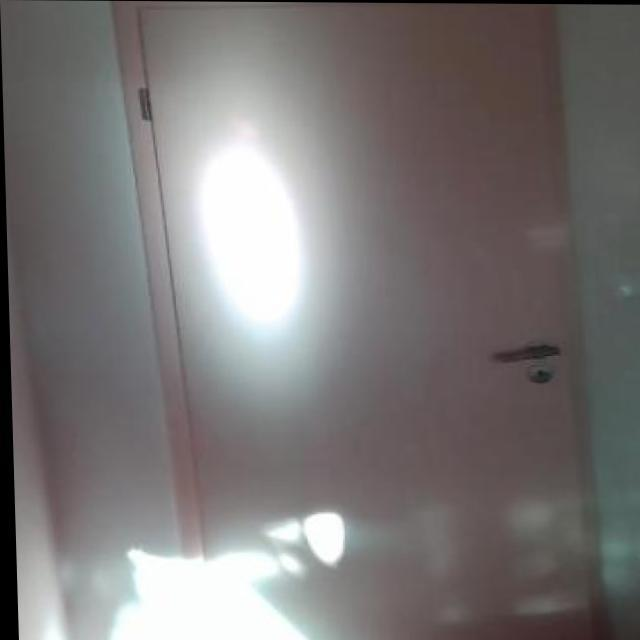door_handle: (483, 332, 561, 370)
